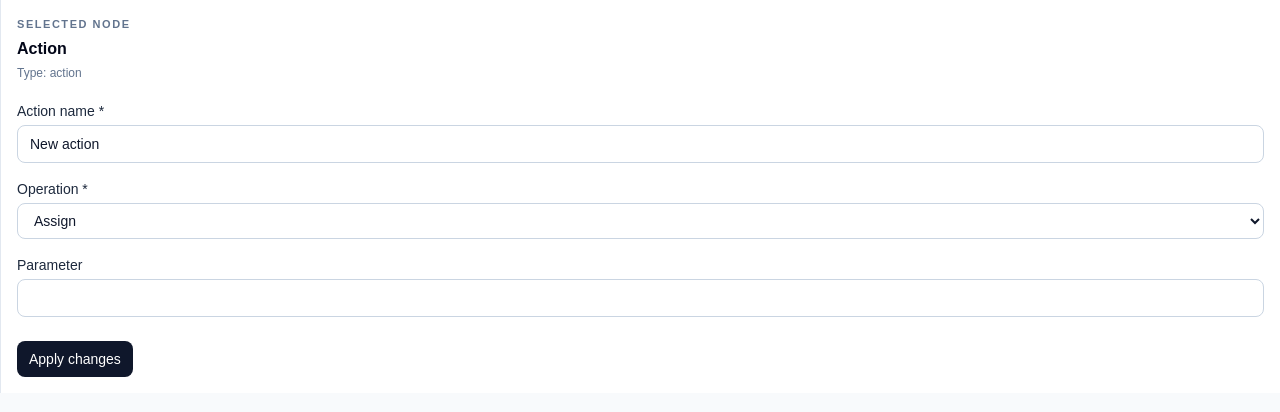
Test: NodeConfigurationPanel › cancels draft edits
This screenshot has width=1280, height=412.
Replace the text in the field labelled "Action name *" with "Draft only" at (640, 144), box [17, 124, 1264, 162]
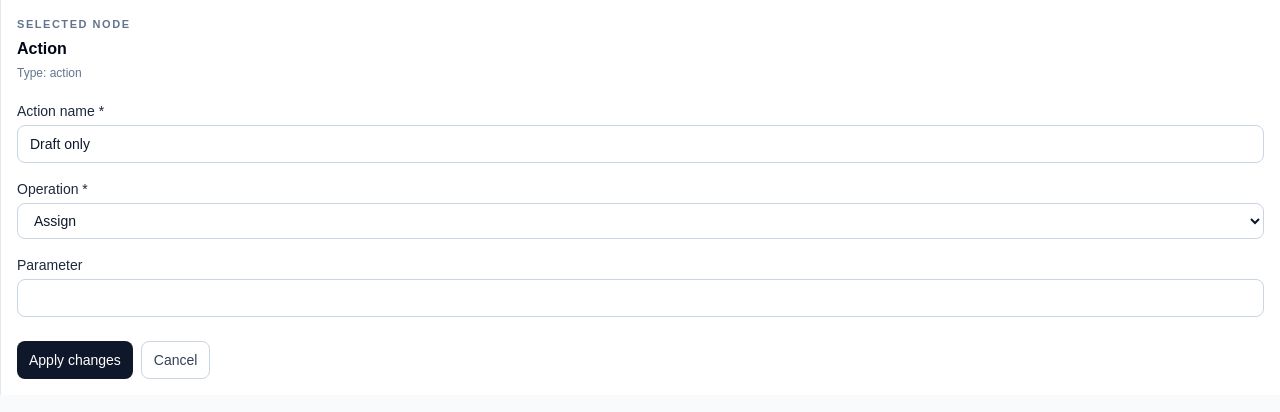
Click the button "Cancel".
click(176, 360)  # box [141, 340, 210, 378]
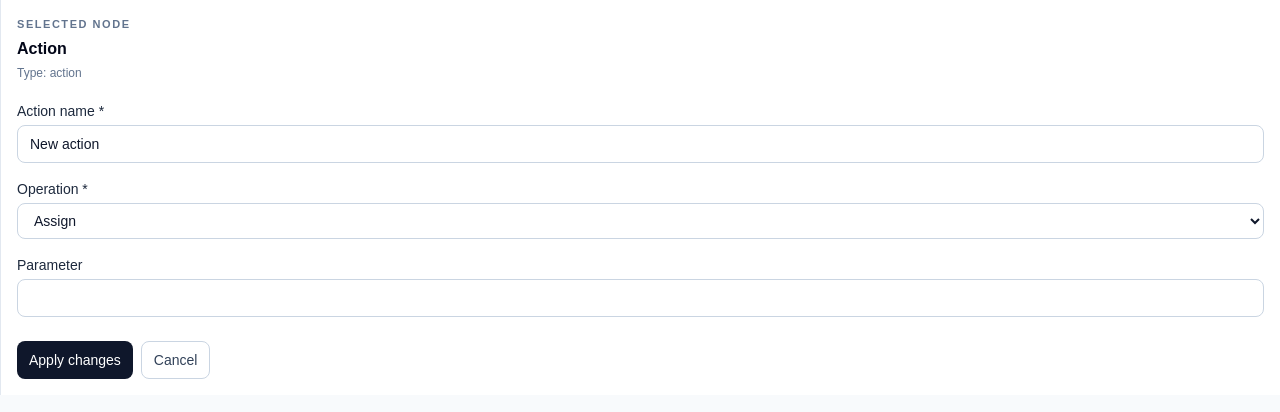
Now the field labelled "Action name *" holds "New action", box [17, 124, 1264, 162]
